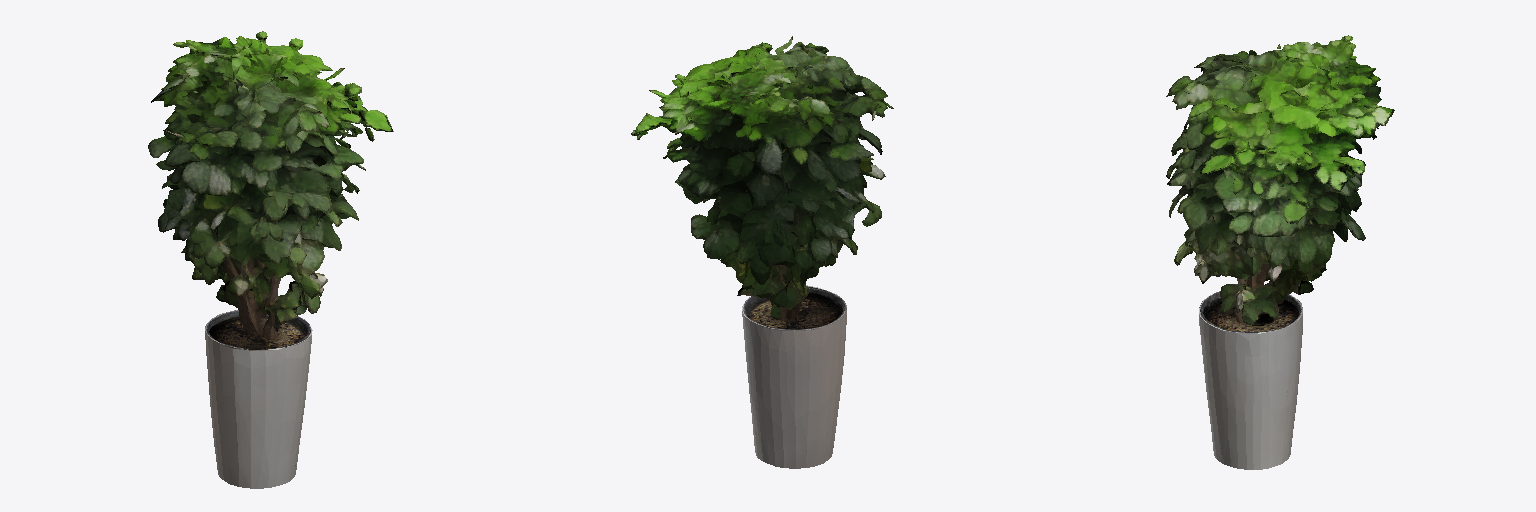
3 views of the same model, side by side, from view 1: azimuth 30°, elevation 25°; view 2: azimuth 150°, elevation 25°; view 3: azimuth 270°, elevation 25° (orthographic).
Parts seen in each view (by area): view 1: geometry_0; view 2: geometry_0; view 3: geometry_0.
Part boxes in pixels (bbox=[...]): geometry_0: bbox=[148, 31, 393, 488]; geometry_0: bbox=[631, 36, 893, 468]; geometry_0: bbox=[1166, 35, 1394, 469].
Bounding box in the file's own units: 0.5252 × 0.9793 × 0.4999.
1 materials, 1 textured.